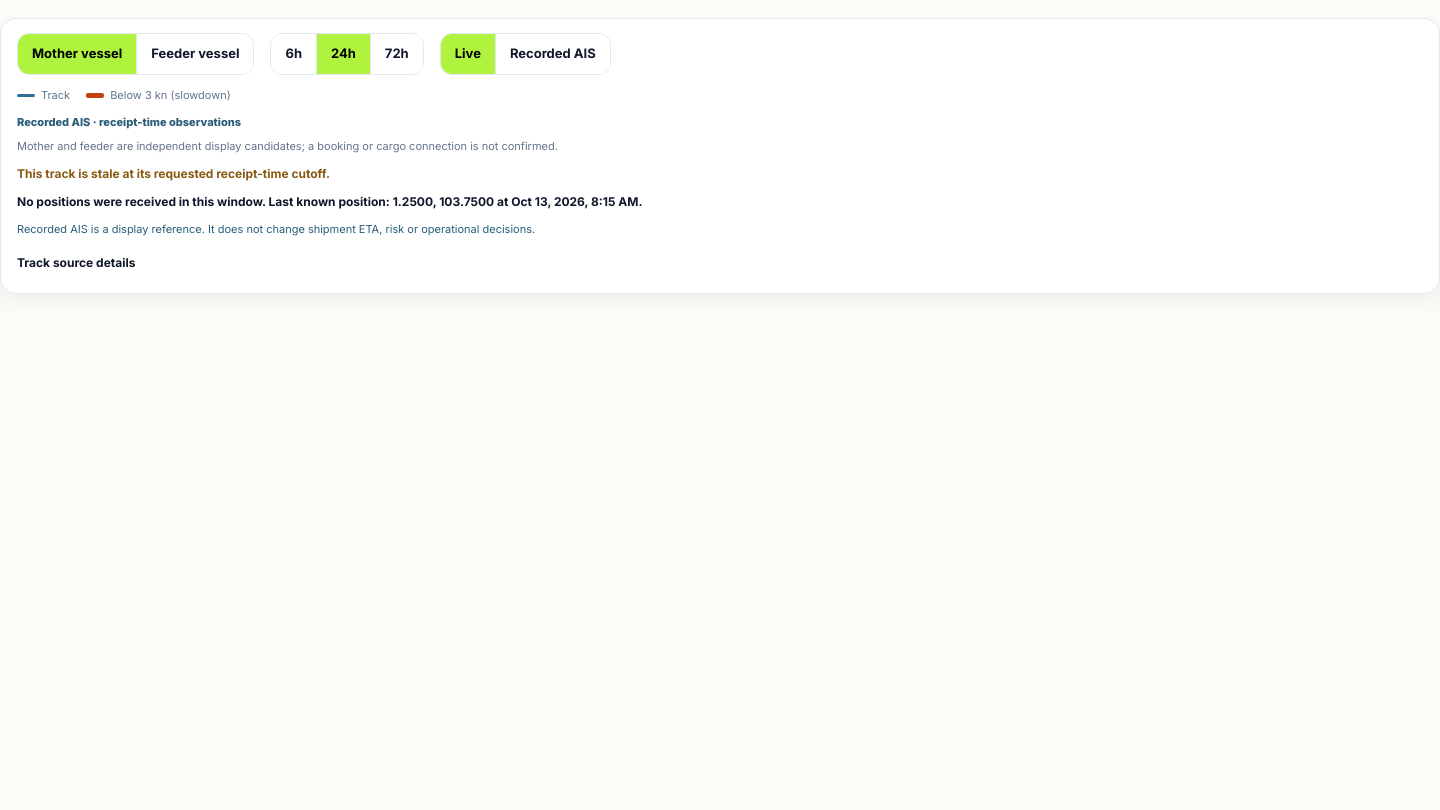
Test: track history presentation › keeps a last-known fallback readable when the requested window has no points
Check: the text "No positions were received in this window" shows "Last known position: 1.2500, 103.7500", box [17,194,642,208]
Check: the element named "Track history" shows "STALE", box [17,166,330,180]
Click the heading "Track source details": [76, 262] box [17,255,135,270]
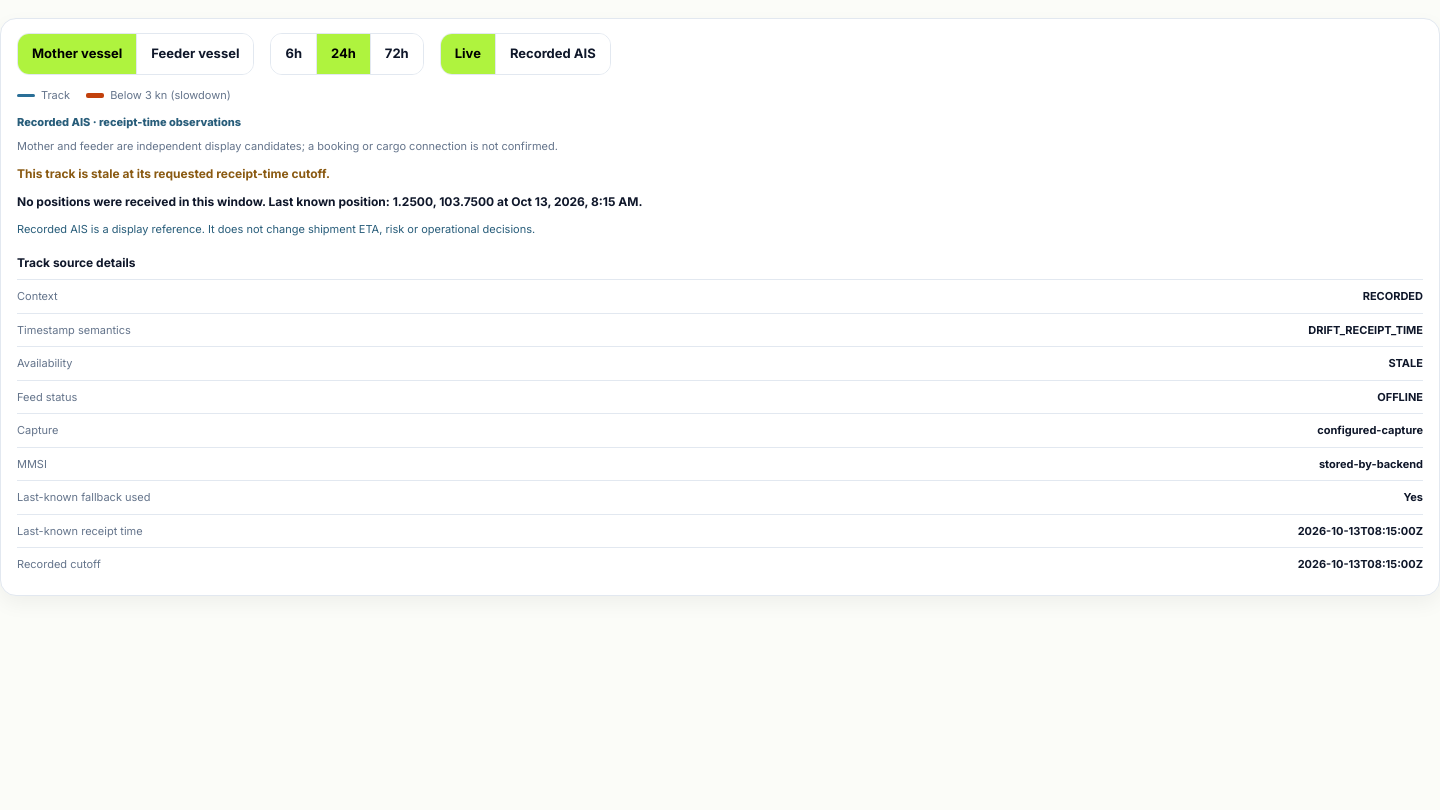
Check: the text "Yes" is shown, box [1403,489,1423,506]
